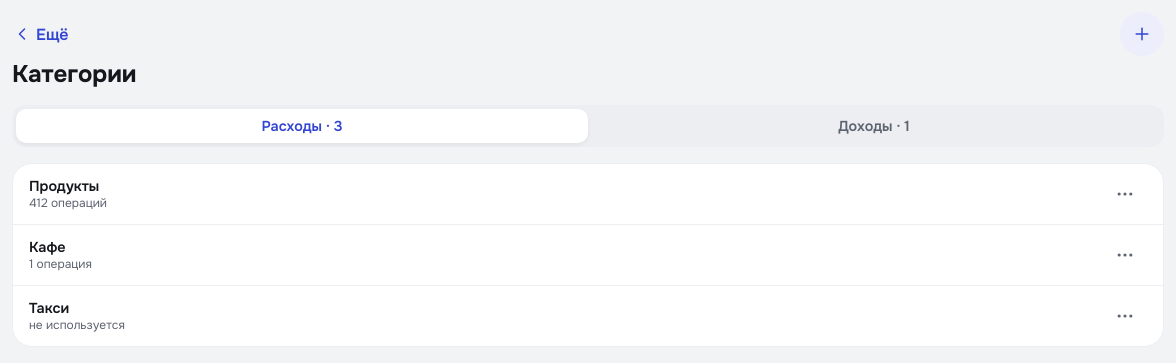
Test: CategoriesScreen › menu › opens with rename and delete items and reports aria-expanded
Click the button named "Действия: Продукты": (1125, 194) [1103, 172, 1147, 216]
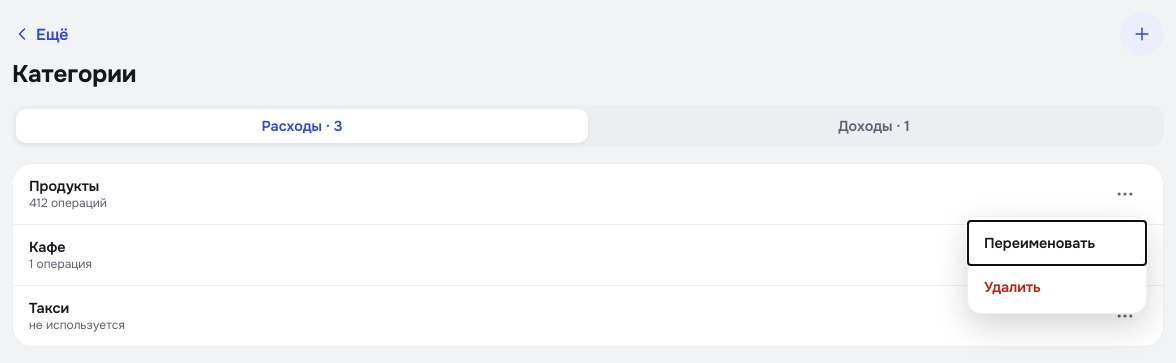
Check: the menu item "Переименовать" is shown, box [968, 221, 1146, 265]
Check: the menu item "Удалить" is shown, box [968, 265, 1146, 309]
